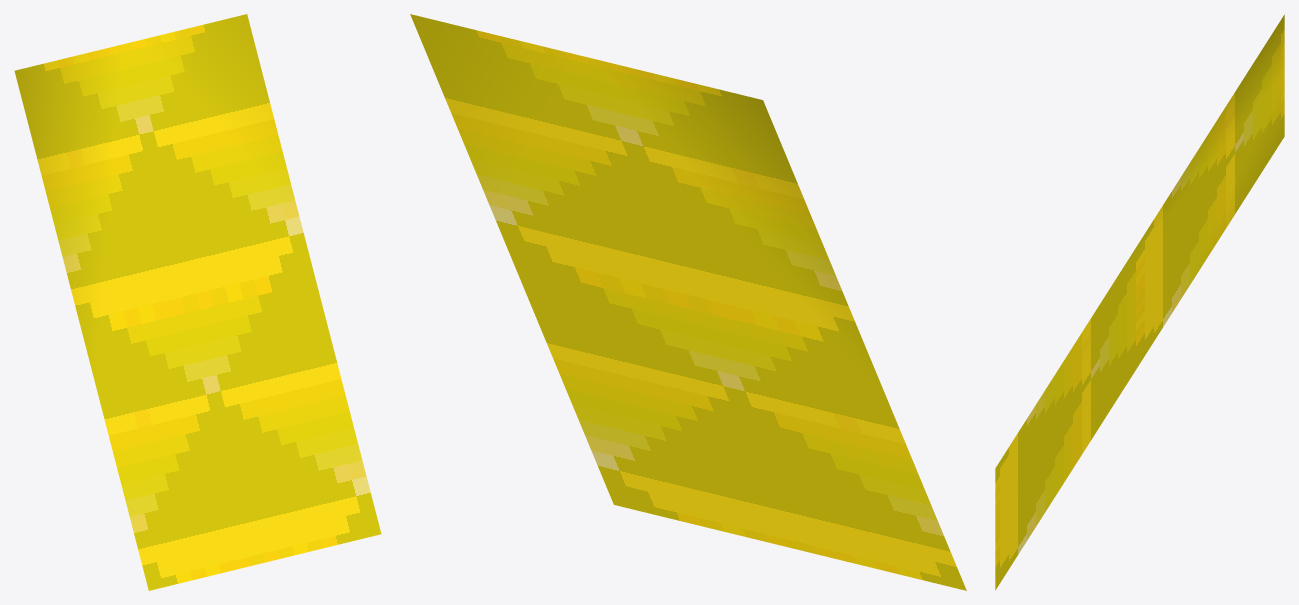
3 renders of one model, left to right at view 1: azimuth 30°, elevation 25°; view 2: azimuth 150°, elevation 25°; view 3: azimuth 270°, elevation 25°, orthographic. The views are drawn at different scales.
Bounding box in the file's own units: 1 × 1.73 × 1.
Materials: 1 (1 with a texture image).
